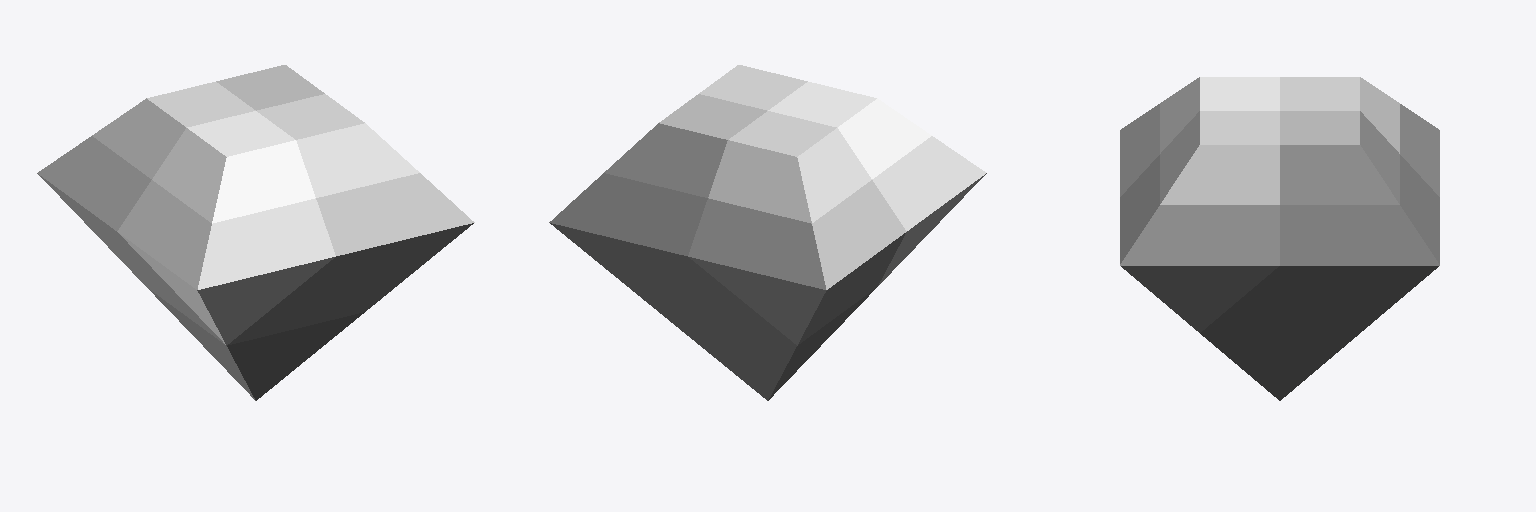
3 views of the same model, side by side, from view 1: azimuth 30°, elevation 25°; view 2: azimuth 150°, elevation 25°; view 3: azimuth 270°, elevation 25° (orthographic).
Parts seen in each view (by area): view 1: Cube_Cube.001; view 2: Cube_Cube.001; view 3: Cube_Cube.001.
Part boxes in pixels (x1,y1,x2,y2): Cube_Cube.001: (37,65,474,400); Cube_Cube.001: (549,65,986,400); Cube_Cube.001: (1120,77,1439,400).
Size of the model in its own units: 0.8 by 0.8 by 0.8.
Materials: 1 (1 with a texture image).